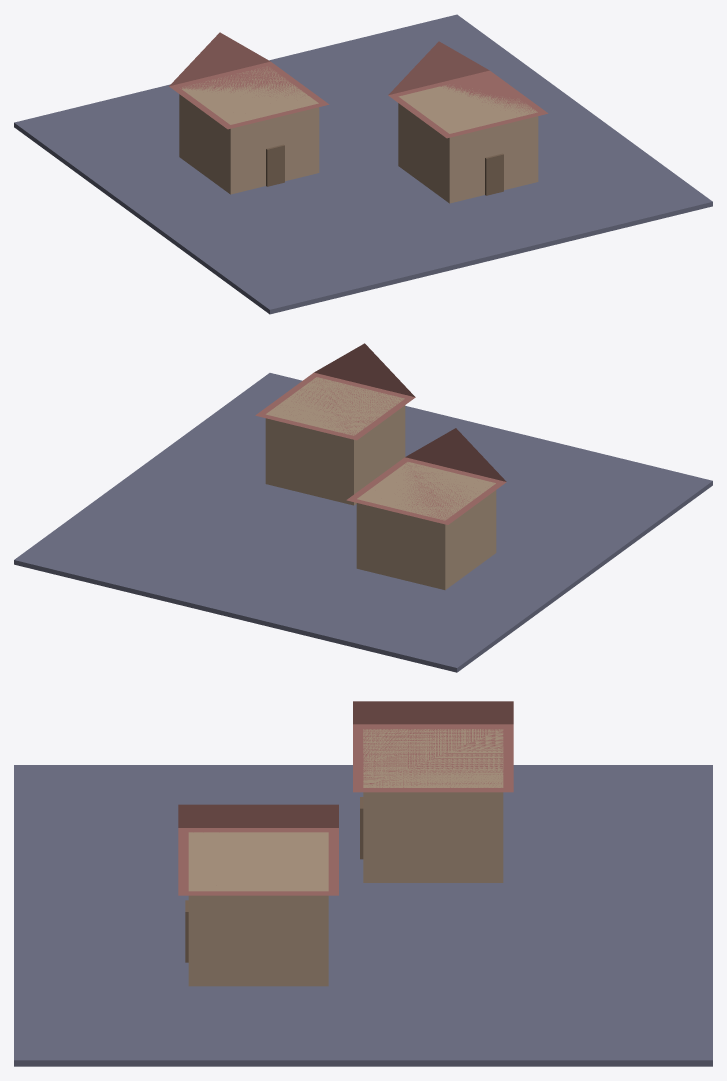
Rendered from residence.glb.
3 renders of one model, top to bottom at view 1: azimuth 30°, elevation 25°; view 2: azimuth 150°, elevation 25°; view 3: azimuth 270°, elevation 25°, orthographic. The views are drawn at different scales.
Visible parts, largest first — view 1: part_0, part_1, part_4, part_2, part_5, part_3, part_6; view 2: part_0, part_1, part_4, part_5, part_2; view 3: part_0, part_4, part_1, part_2, part_5.
Part boxes in pixels (box(x1,y1,x2,y2)): part_0: box(14, 14, 712, 314); part_1: box(179, 66, 319, 194); part_4: box(398, 84, 538, 203); part_2: box(169, 32, 329, 129); part_5: box(388, 41, 548, 138); part_3: box(266, 144, 284, 186); part_6: box(485, 153, 503, 195); part_0: box(14, 373, 712, 672); part_1: box(356, 462, 496, 589); part_4: box(265, 377, 405, 505); part_5: box(255, 343, 415, 440); part_2: box(346, 428, 506, 524); part_0: box(14, 765, 712, 1066); part_4: box(188, 832, 328, 986); part_1: box(363, 729, 503, 882); part_2: box(353, 701, 513, 792); part_5: box(178, 804, 338, 895).
Size of the model in its own units: 20 by 5 by 20.
